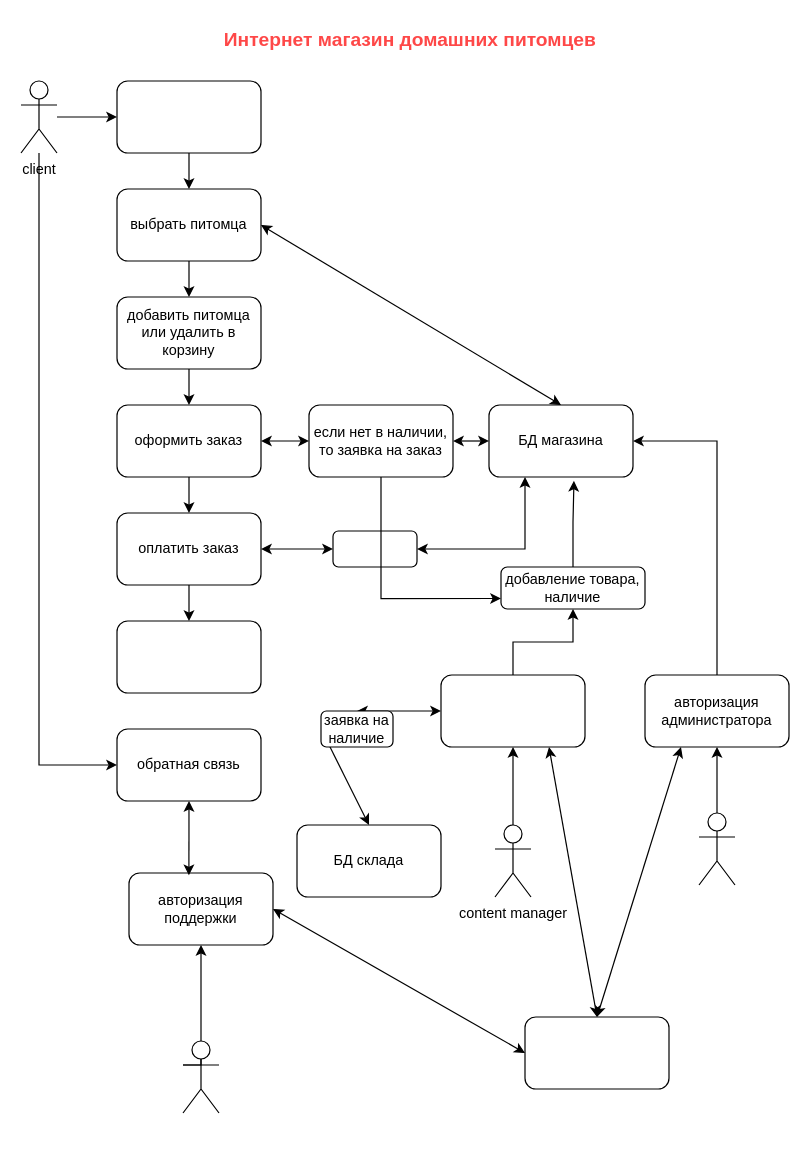
This 810x1158 diagram has some shape labels left out. The shapes that lost their labels are listed below. From the top down, each one's box as (x1, y1, x2, y2) in pixels, then its label:
(116, 80, 261, 153): временный логин для возможности взаимодействия
(332, 530, 417, 567): платежный шлюз
(116, 620, 261, 693): отследить статус заказа
(440, 674, 585, 747): авторизация продавцов
(698, 812, 735, 885): administrator
(524, 1016, 669, 1089): служебные чаты
(182, 1040, 219, 1113): support
